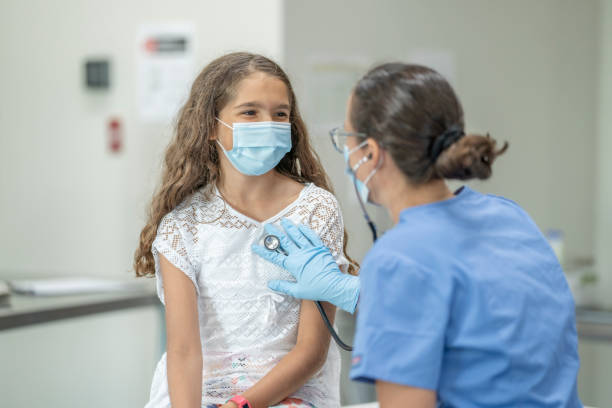with mask: (209, 78, 300, 180)
